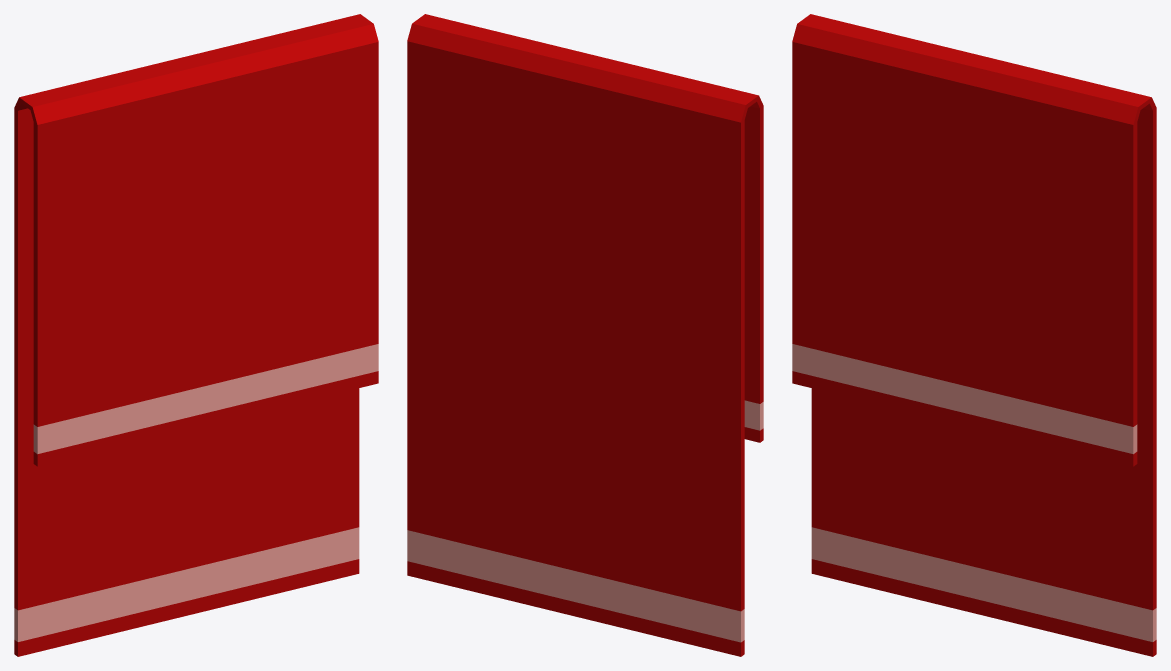
Rendered from Towel_2.fbx.
3 views of the same model, side by side, from view 1: azimuth 30°, elevation 25°; view 2: azimuth 150°, elevation 25°; view 3: azimuth 330°, elevation 25° (orthographic). The views are drawn at different scales.
Parts seen in each view (by area): view 1: polySurface680; view 2: polySurface680; view 3: polySurface680.
Part boxes in pixels (x1=…): polySurface680: x1=14, y1=14, x2=378, y2=656; polySurface680: x1=407, y1=14, x2=763, y2=656; polySurface680: x1=792, y1=14, x2=1156, y2=656.
Size of the model in its own units: 0.5225 by 0.8201 by 0.0617.
Materials: 1 (1 with a texture image).
